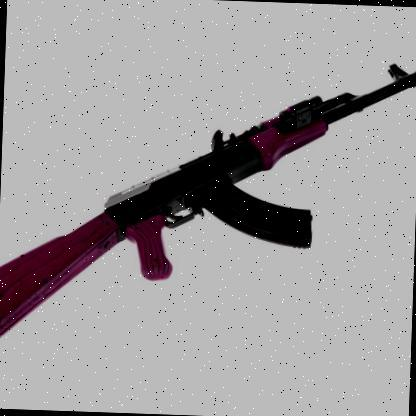rifle: (0, 30, 414, 360)
